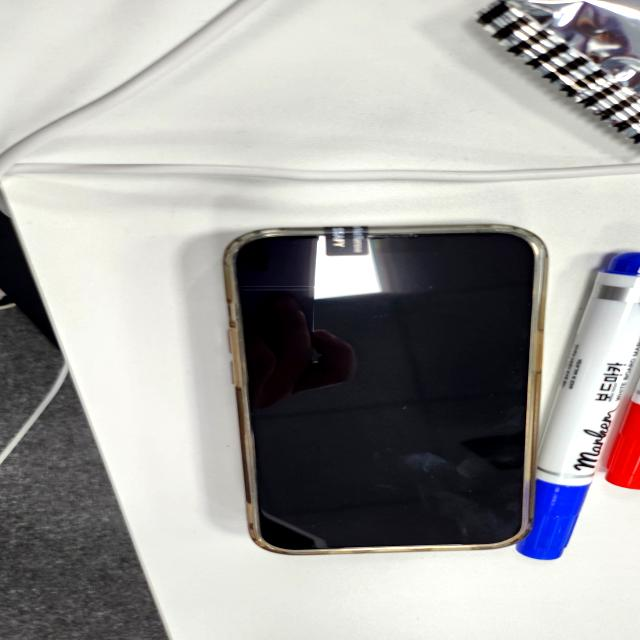phone: (218, 220, 539, 556)
sticker: (326, 226, 370, 256)
